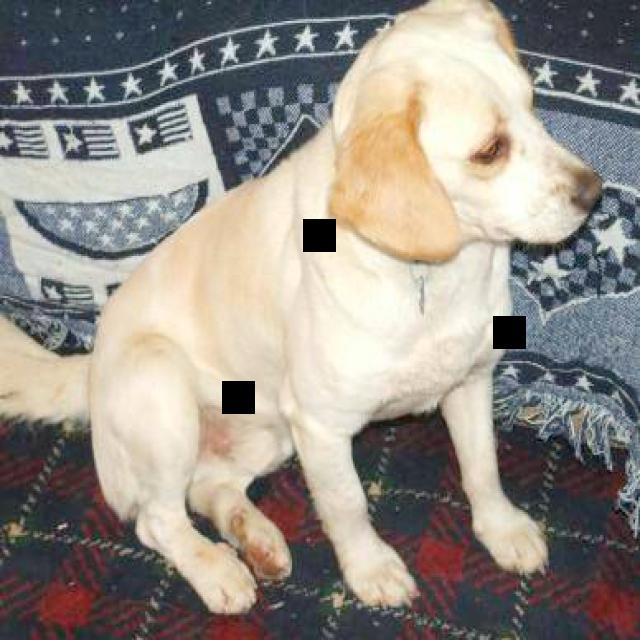puppy-dog: (0, 1, 602, 621)
